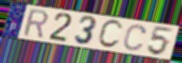2: (47, 12, 74, 44)
3: (73, 15, 99, 46)
5: (146, 24, 176, 56)
C: (96, 19, 124, 50), (122, 24, 149, 52)
R: (22, 8, 49, 40)
